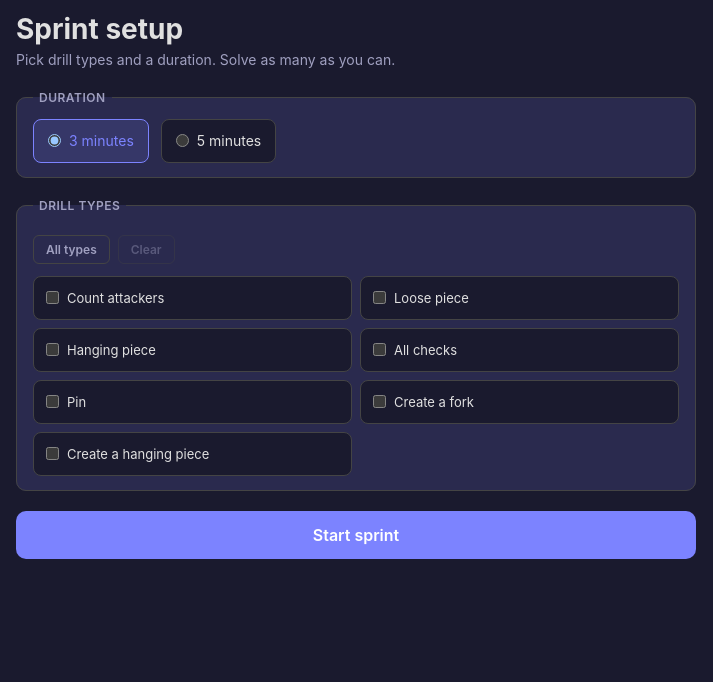
it: <DrillSprintSetupPage> KS-2241 › KS-2350 — обработка 409 ConflictException › «Продолжить» при 404 GET → подсказка resumeNotSupported, не падает
Click the button with test id "drill-sprint-setup-start" at (356, 535), box [16, 511, 696, 559]
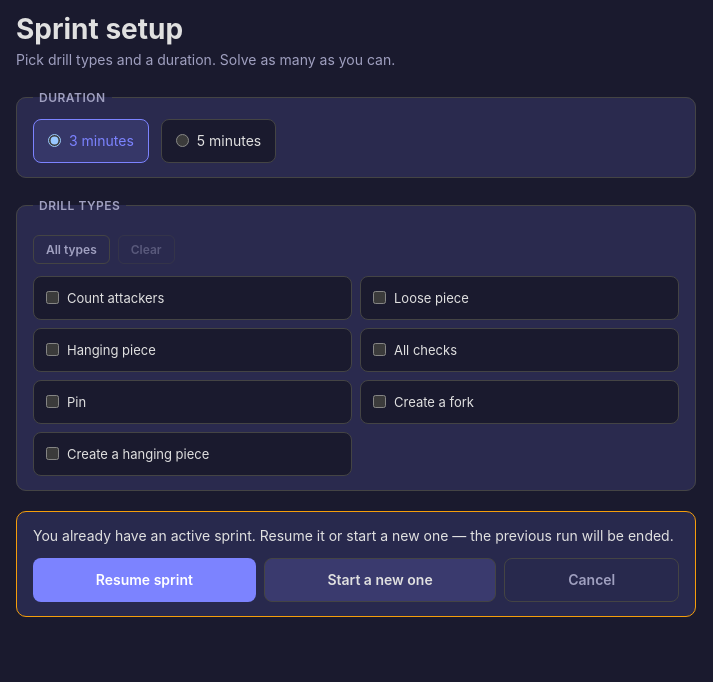
Result: the button with test id "drill-sprint-setup-resume" is shown
Click the button with test id "drill-sprint-setup-resume" at (144, 580), box [33, 558, 256, 602]
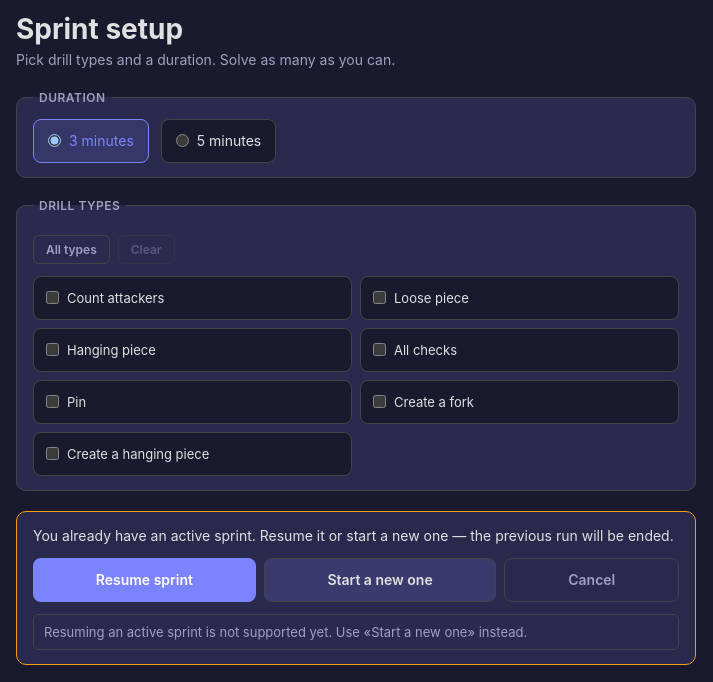
Result: the button with test id "drill-sprint-setup-force-start" is enabled at [264, 558, 496, 602]
Result: the text with test id "drill-sprint-setup-resume-error" is shown at [33, 614, 679, 650]
